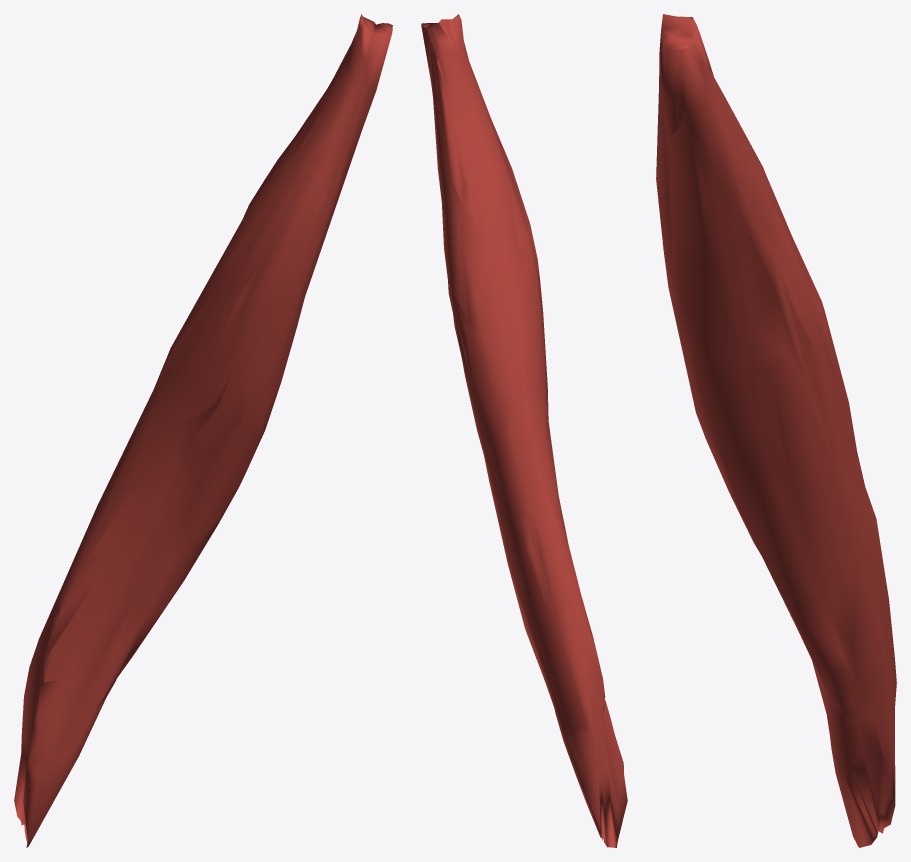
File: musculos-coracobrachialis-muscle-r.glb
3 views of the same model, side by side, from view 1: azimuth 30°, elevation 25°; view 2: azimuth 150°, elevation 25°; view 3: azimuth 270°, elevation 25° (orthographic). The views are drawn at different scales.
Parts seen in each view (by area): view 1: Coracobrachialis muscle.r; view 2: Coracobrachialis muscle.r; view 3: Coracobrachialis muscle.r.
Part boxes in pixels (<box>): Coracobrachialis muscle.r: <box>14,14,392,847</box>; Coracobrachialis muscle.r: <box>421,14,627,847</box>; Coracobrachialis muscle.r: <box>656,14,896,847</box>.
Bounding box in the file's own units: 0.0608 × 0.1583 × 0.035.
